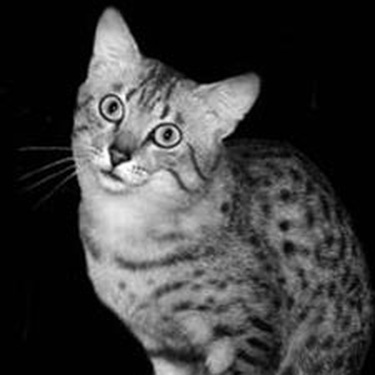cat: (34, 15, 360, 363)
